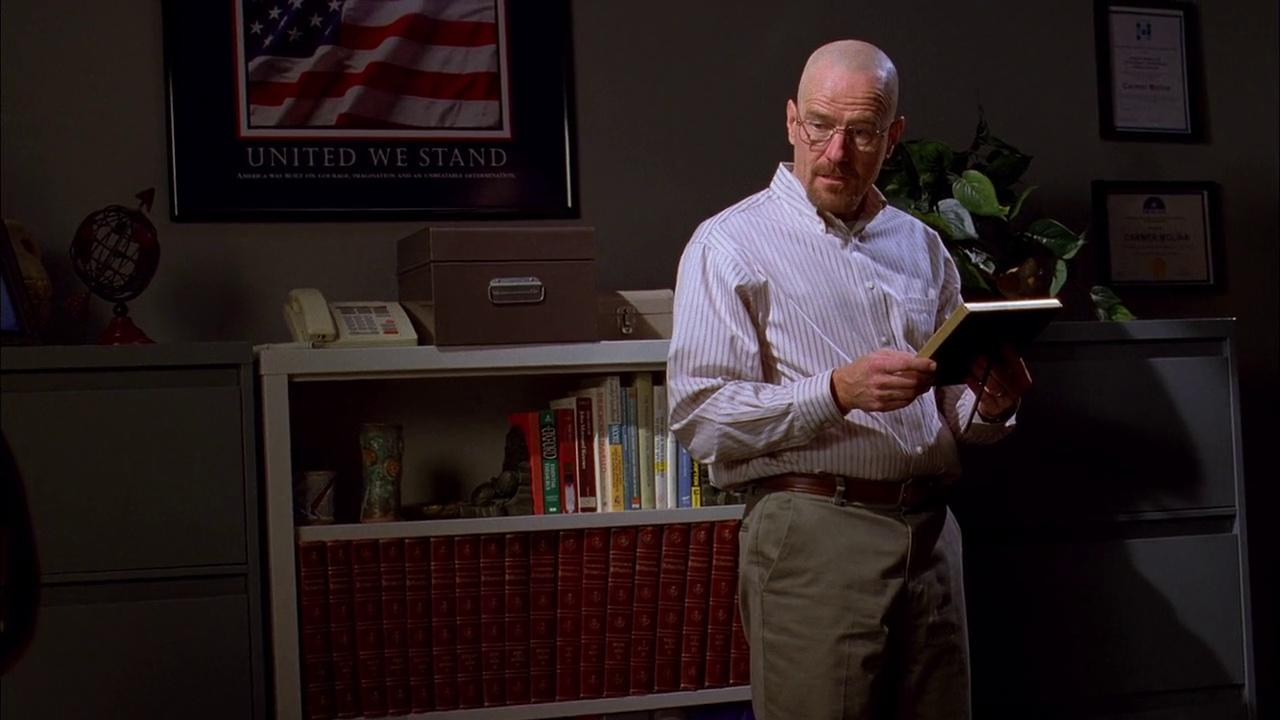Filing Cabinet: (0, 338, 266, 719), (1022, 314, 1258, 719)
